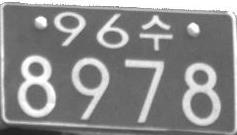6: (95, 13, 129, 50)
7: (124, 57, 165, 124)
8: (16, 53, 57, 118), (182, 60, 221, 126)
9: (70, 55, 110, 120), (53, 10, 86, 46)
수: (139, 13, 173, 51)
